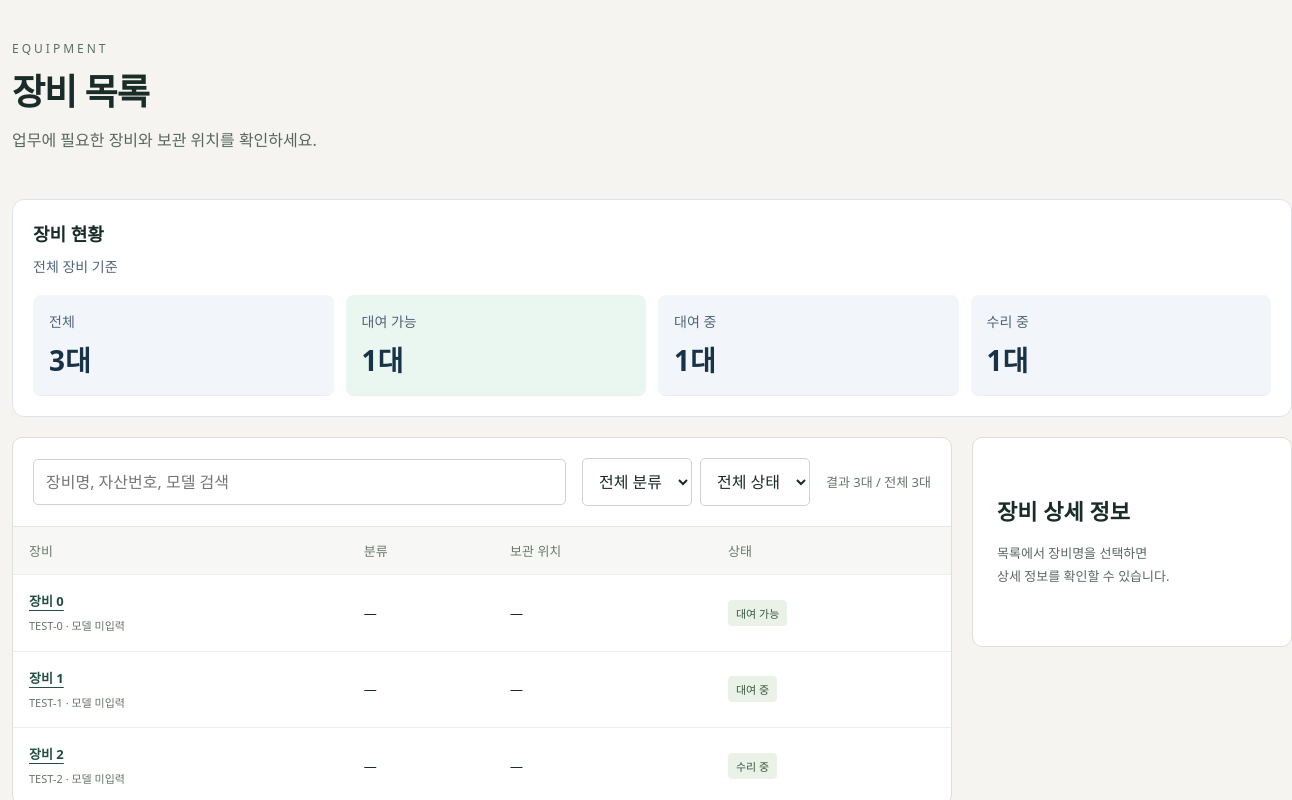
Test case: searching the list does not change the full inventory summary
Check: the button "장비 0" is shown, box left=29, top=591, right=64, bottom=610
In the field named "장비 검색": (300, 482) left=33, top=459, right=566, bottom=505, type "장비 0"
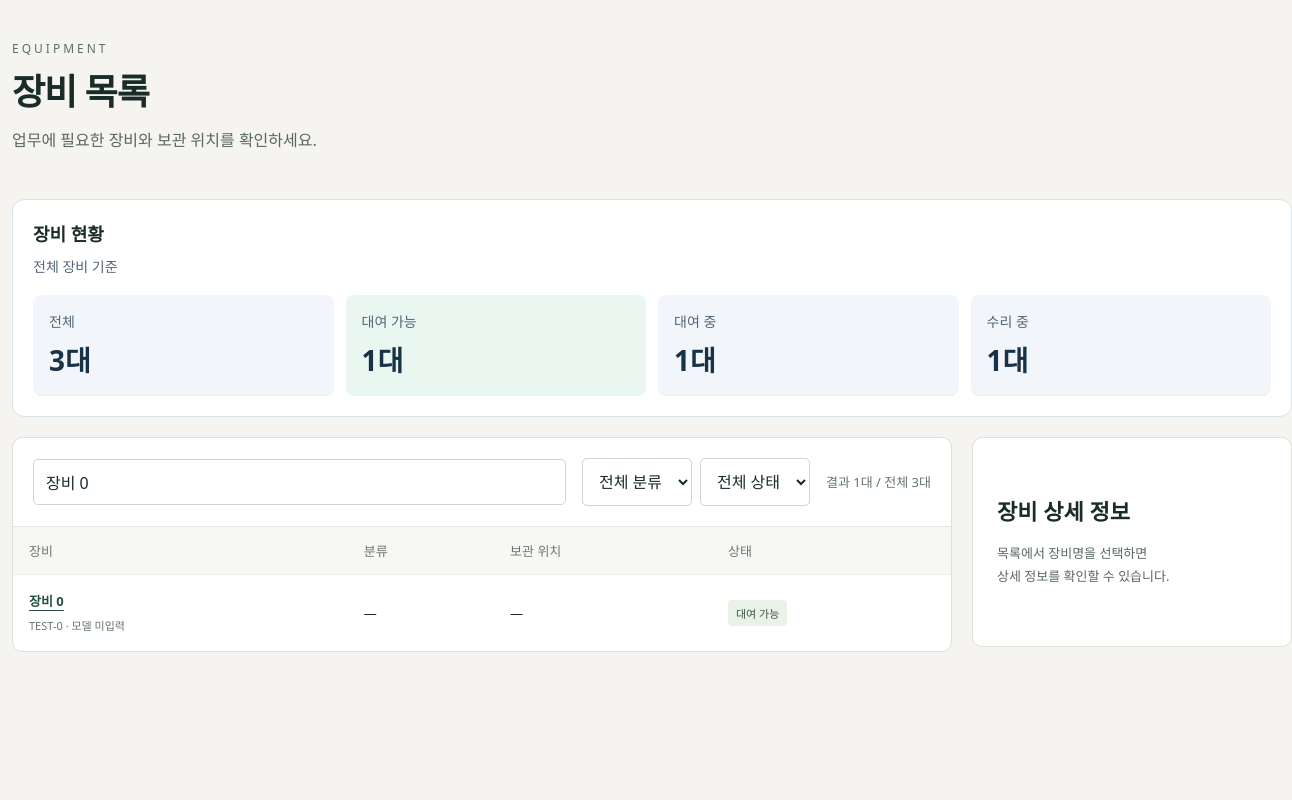
Check: the text "3대" is shown, box left=49, top=341, right=91, bottom=379
Check: the button "장비 1" is gone
